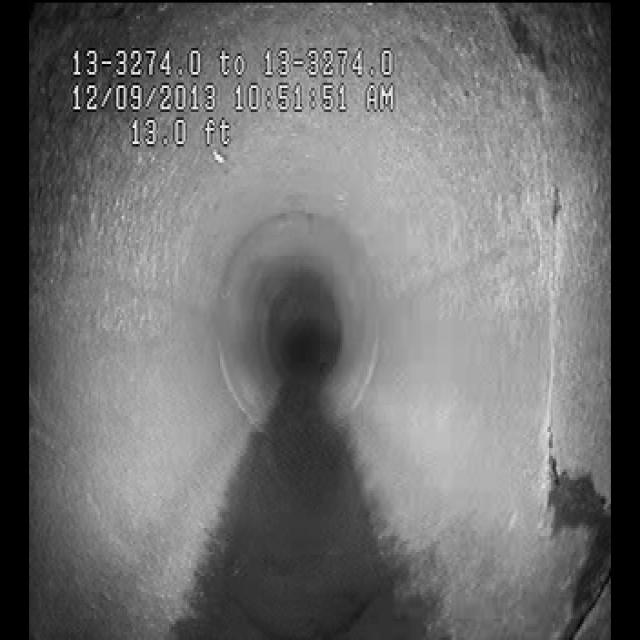Crack: (484, 22, 592, 516)
